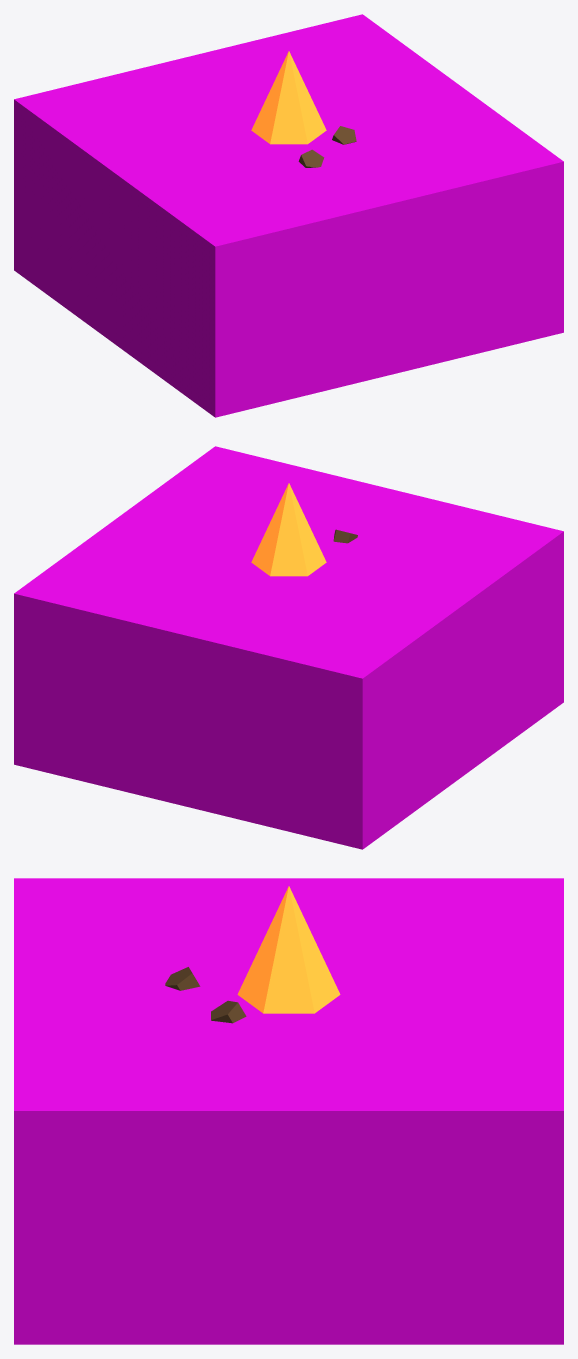
The model's file is campfire.glb.
The picture shows the model from 3 angles, top to bottom: view 1: azimuth 30°, elevation 25°; view 2: azimuth 150°, elevation 25°; view 3: azimuth 270°, elevation 25°; orthographic projection. The views are drawn at different scales.
Parts seen in each view (by area): view 1: Col_main, Flame, M_b3; view 2: Col_main, Flame; view 3: Col_main, Flame, M_b3.
Part boxes in pixels (bbox=[...]): Col_main: bbox=[14, 14, 563, 417]; Flame: bbox=[251, 51, 326, 144]; M_b3: bbox=[298, 126, 356, 167]; Col_main: bbox=[14, 446, 563, 849]; Flame: bbox=[251, 483, 326, 576]; Col_main: bbox=[14, 878, 563, 1344]; Flame: bbox=[237, 886, 340, 1013]; M_b3: bbox=[165, 967, 246, 1023].
Size of the model in its own units: 1.6 by 1.18 by 1.6.
